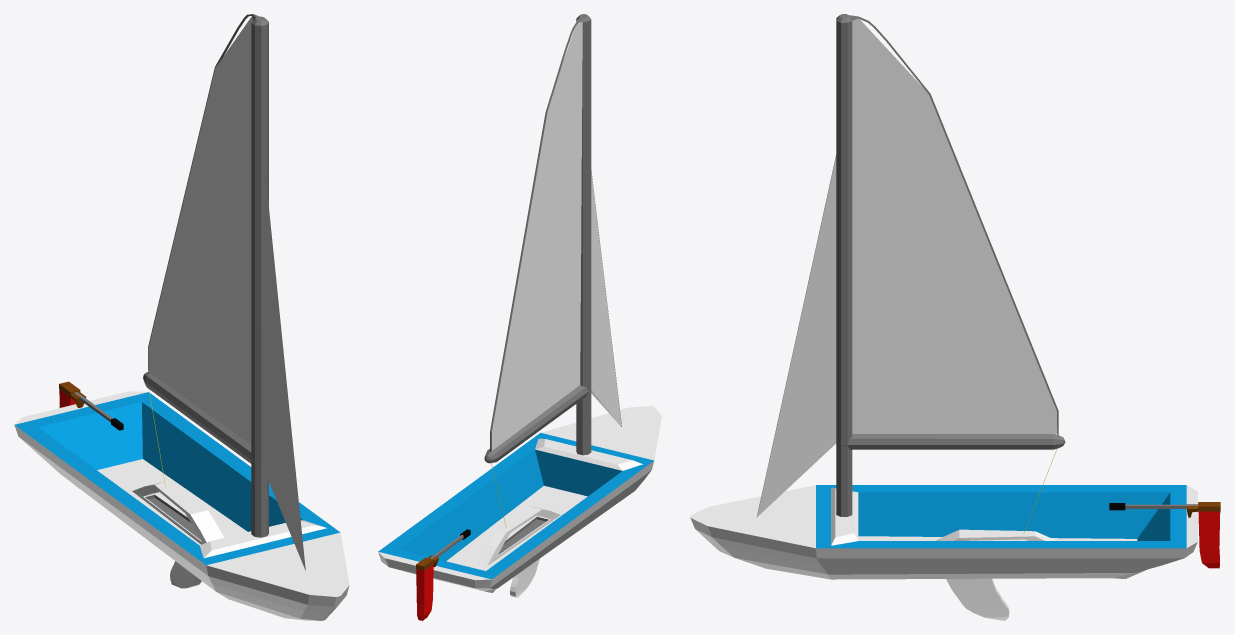
Rendered from Boat_1.fbx.
3 views of the same model, side by side, from view 1: azimuth 30°, elevation 25°; view 2: azimuth 150°, elevation 25°; view 3: azimuth 270°, elevation 25° (orthographic). The views are drawn at different scales.
Parts seen in each view (by area): view 1: Cube; view 2: Cube; view 3: Cube.
Boxes of the visible parts, x1,y1,x2,y2 form: Cube: (14, 14, 349, 620); Cube: (378, 14, 661, 620); Cube: (690, 14, 1220, 620).
Size of the model in its own units: 349 by 1553 by 1237.
